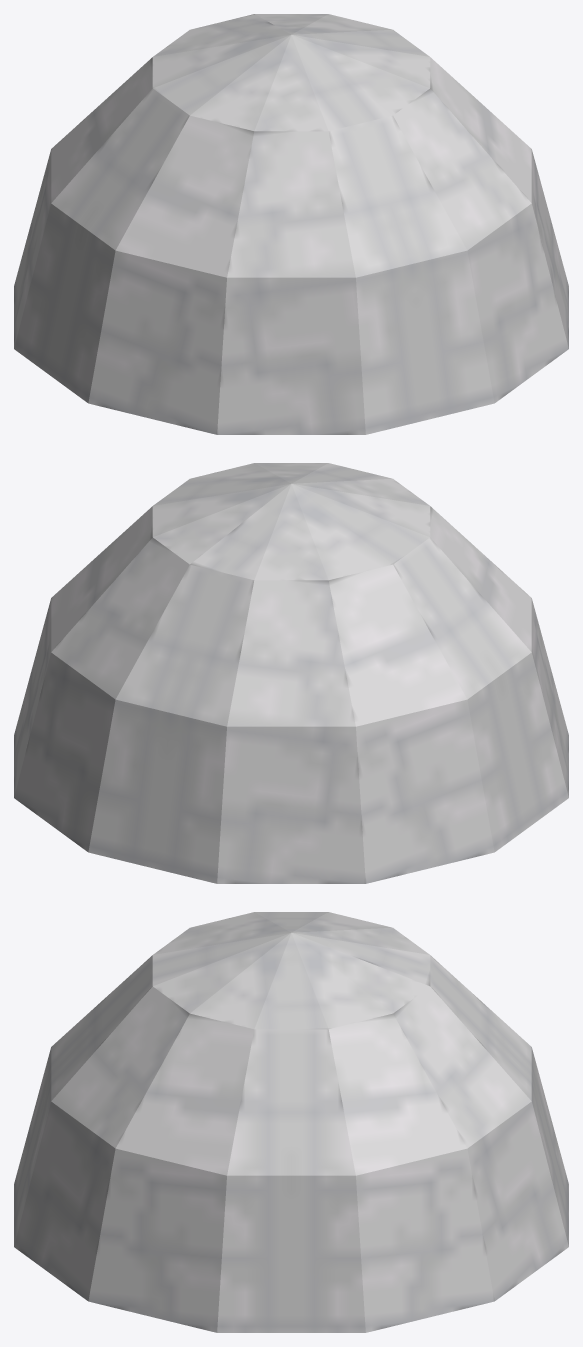
The model's file is osgiliath_dome_9x9.obj.
The picture shows the model from 3 angles, top to bottom: view 1: azimuth 30°, elevation 25°; view 2: azimuth 150°, elevation 25°; view 3: azimuth 270°, elevation 25°; orthographic projection.
Visible parts, largest first — view 1: sphere; view 2: sphere; view 3: sphere.
Part boxes in pixels (x1=…): sphere: x1=14, y1=14, x2=568, y2=434; sphere: x1=14, y1=463, x2=568, y2=883; sphere: x1=14, y1=912, x2=568, y2=1332.
Size of the model in its own units: 3 by 1.69 by 3.
